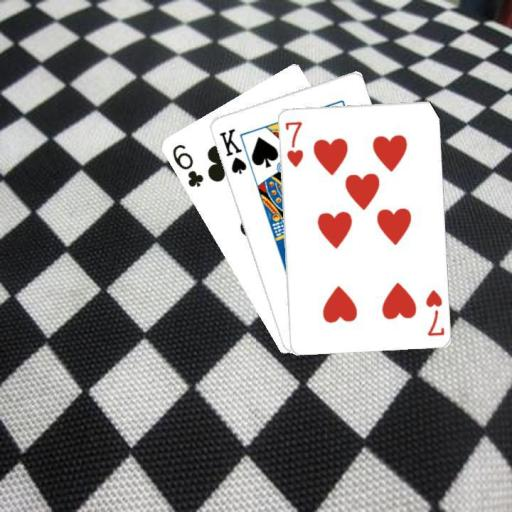6C: (168, 141, 205, 188)
7H: (282, 118, 305, 169), (422, 287, 445, 337)
KS: (216, 125, 248, 176)
